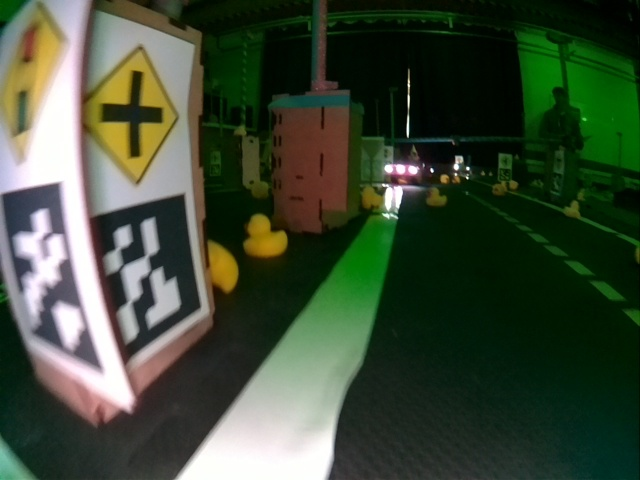Duckie: (245, 215, 286, 255), (205, 242, 236, 290), (363, 187, 381, 209), (565, 200, 580, 218), (428, 186, 442, 202), (491, 184, 501, 194)
Intersection sign: (88, 42, 183, 191)
QR code: (3, 184, 107, 374), (94, 192, 205, 367), (552, 174, 561, 193)
Signal sign: (2, 3, 68, 166)
